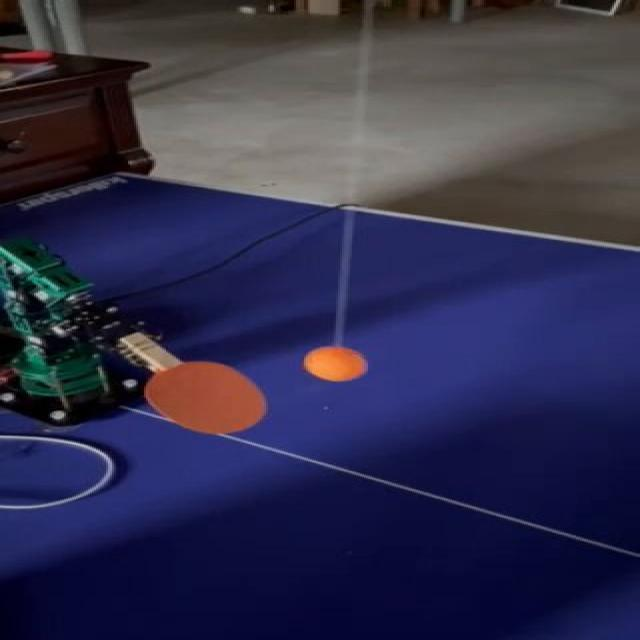ping-pong-ball: (304, 350, 368, 380)
